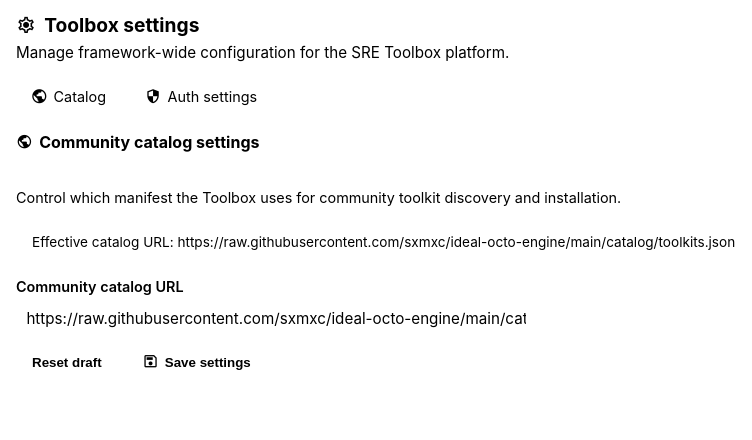
Test case: AdminToolkitsPage community catalog › allows administrators to override catalog url
Replace the text in the field labelled "Community catalog URL" with "https://example.com/custom.json" at point(276, 318), box 16,301 -> 536,336
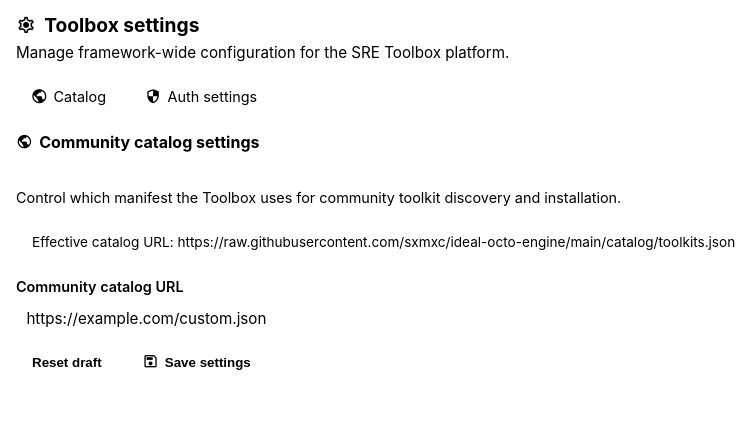
Click the button "Save settings" at point(196, 362), box 126,345 -> 267,379
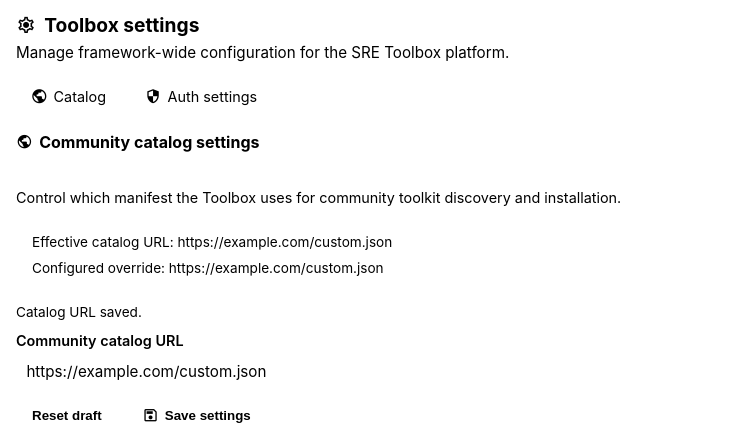
Check: the text "Catalog URL saved." is shown, box 16,304 -> 142,320
